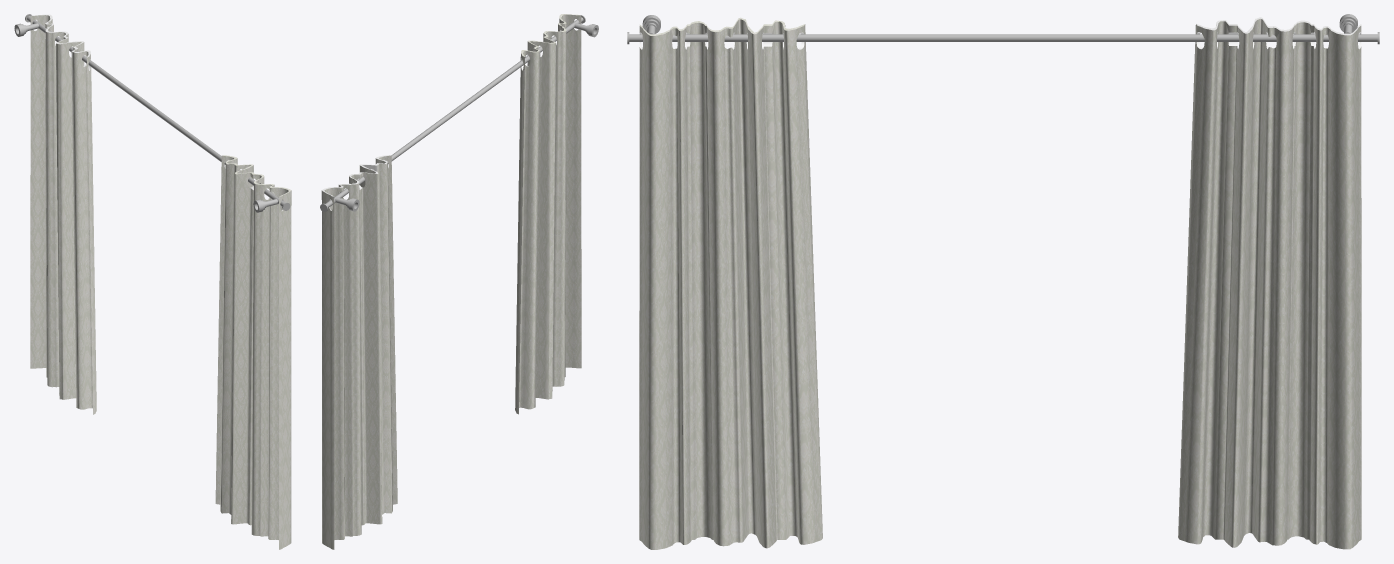
Rendered from Curtains.obj.
The picture shows the model from 3 angles, left to right: view 1: azimuth 30°, elevation 25°; view 2: azimuth 150°, elevation 25°; view 3: azimuth 270°, elevation 25°; orthographic projection. The views are drawn at different scales.
Visible parts, largest first — view 1: Mesh3 Group3 Model, Mesh2 Group2 Model, Mesh1 Group1 Model; view 2: Mesh2 Group2 Model, Mesh3 Group3 Model, Mesh1 Group1 Model; view 3: Mesh3 Group3 Model, Mesh2 Group2 Model, Mesh1 Group1 Model.
Part boxes in pixels (x1,y1,x2,y2): Mesh3 Group3 Model: (215,155,291,549); Mesh2 Group2 Model: (30,14,96,414); Mesh1 Group1 Model: (25,14,290,210); Mesh2 Group2 Model: (321,155,397,549); Mesh3 Group3 Model: (515,14,581,414); Mesh1 Group1 Model: (320,15,585,211); Mesh3 Group3 Model: (639,17,822,549); Mesh2 Group2 Model: (1178,17,1361,549); Mesh1 Group1 Model: (627,32,1379,44).
Size of the model in its own units: 11.42 by 110 by 146.
4 materials, 1 textured.
